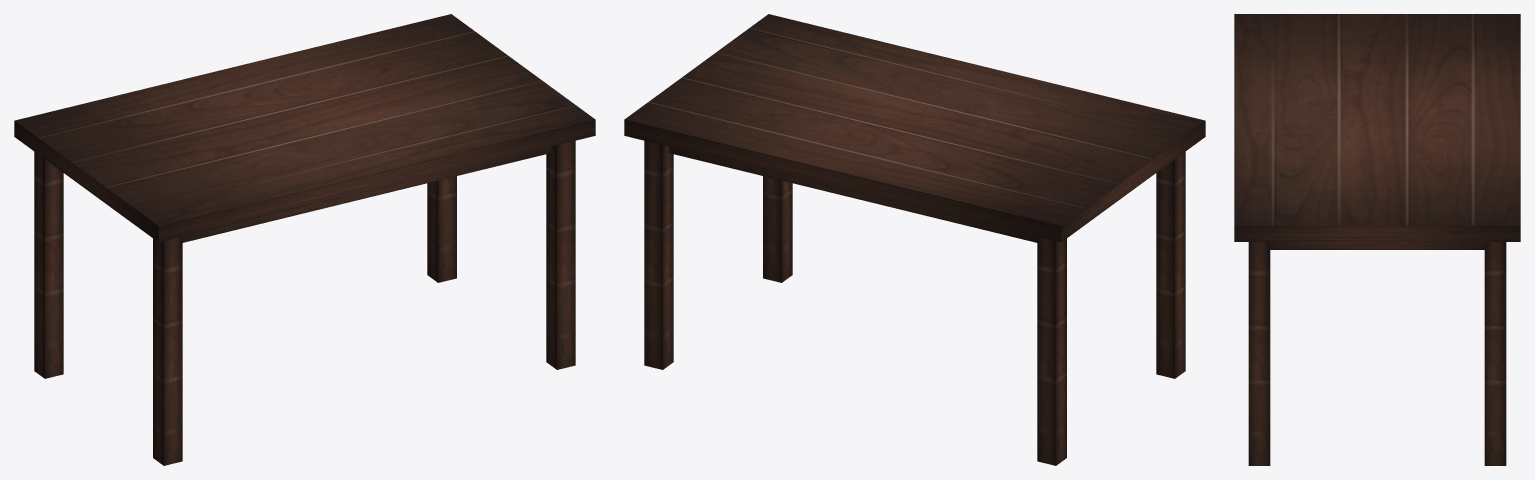
The model's file is Table.fbx.
The picture shows the model from 3 angles, left to right: view 1: azimuth 30°, elevation 25°; view 2: azimuth 150°, elevation 25°; view 3: azimuth 270°, elevation 25°; orthographic projection.
Visible parts, largest first — view 1: Table; view 2: Table; view 3: Table.
Part boxes in pixels (bbox=[...]): Table: bbox=[14, 14, 595, 465]; Table: bbox=[624, 14, 1205, 465]; Table: bbox=[1234, 14, 1520, 465].
Size of the model in its own units: 1.4 by 0.76 by 0.8.
